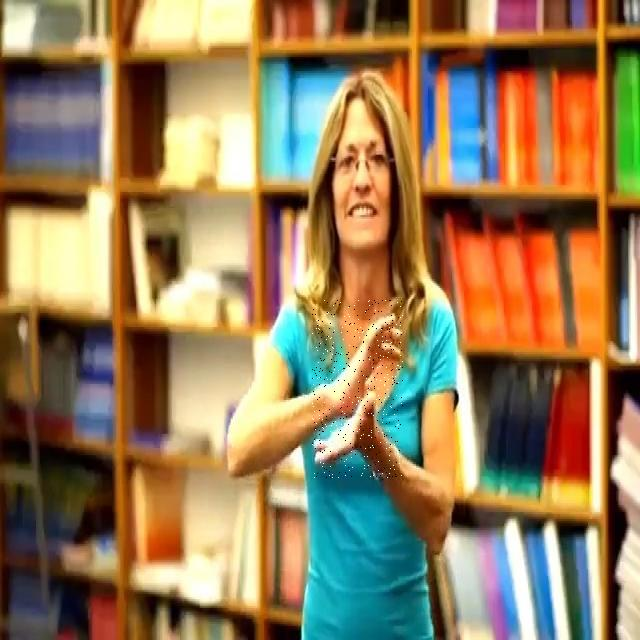cheese: (312, 300, 403, 478)
